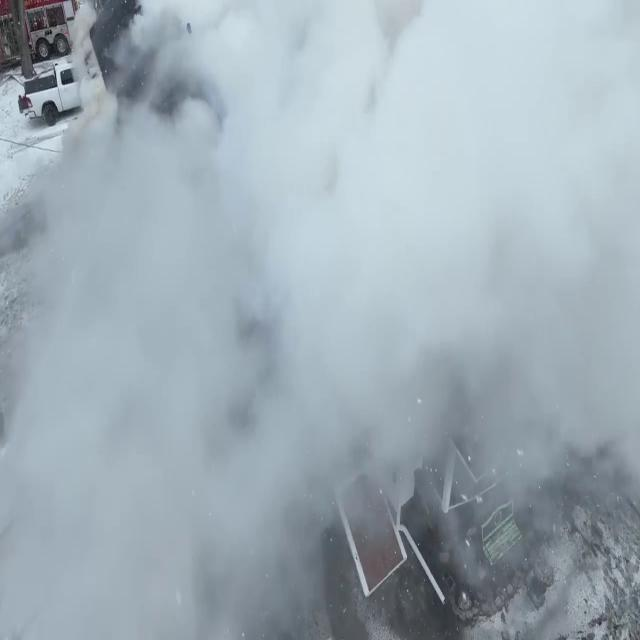Smoke: (1, 0, 637, 639)
